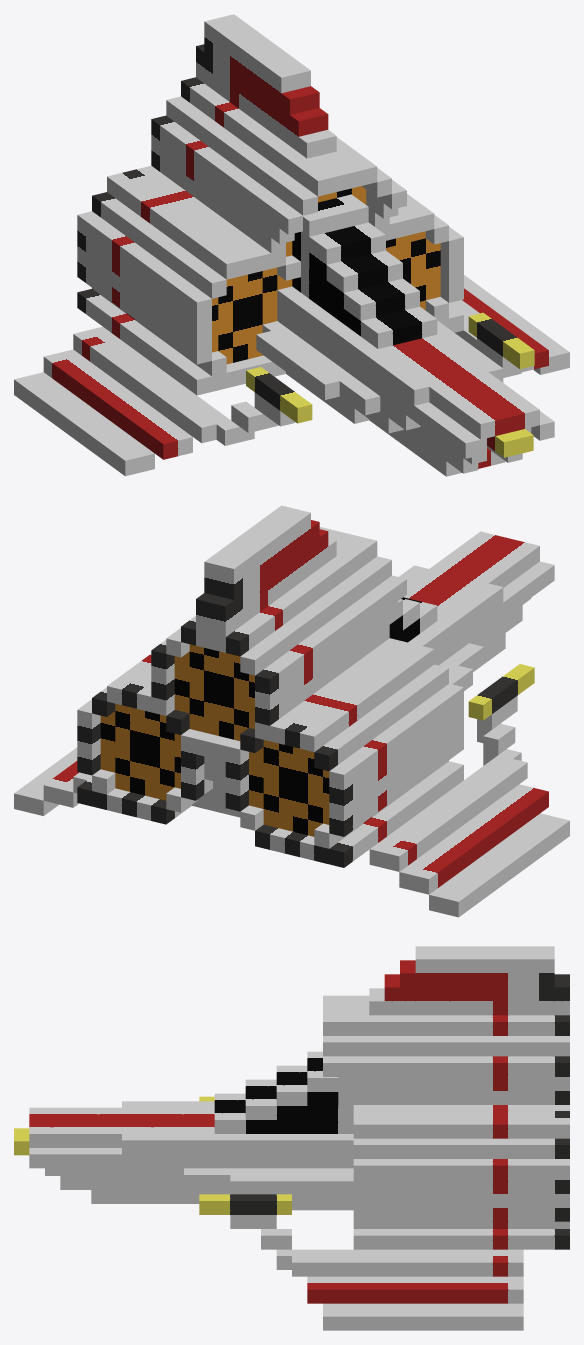
The model's file is nave.glb.
The picture shows the model from 3 angles, top to bottom: view 1: azimuth 30°, elevation 25°; view 2: azimuth 150°, elevation 25°; view 3: azimuth 270°, elevation 25°; orthographic projection. The views are drawn at different scales.
Visible parts, largest first — view 1: SaffiraNave-Mesh; view 2: SaffiraNave-Mesh; view 3: SaffiraNave-Mesh.
Part boxes in pixels (bbox=[...]): SaffiraNave-Mesh: bbox=[14, 14, 569, 476]; SaffiraNave-Mesh: bbox=[14, 505, 569, 917]; SaffiraNave-Mesh: bbox=[14, 946, 569, 1330].
Bounding box in the file's own units: 30 × 20 × 36.
1 material, 1 textured.
